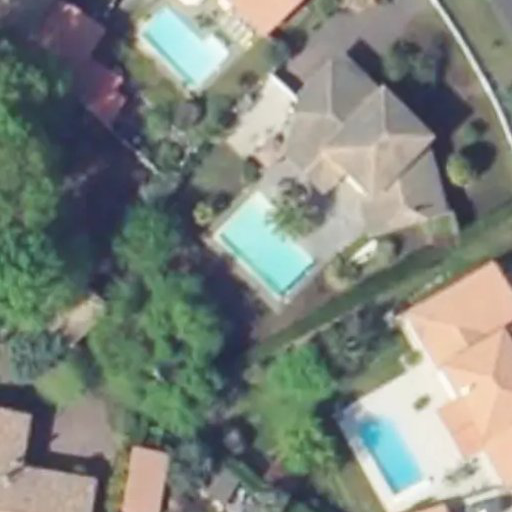pool: (207, 233, 312, 251)
